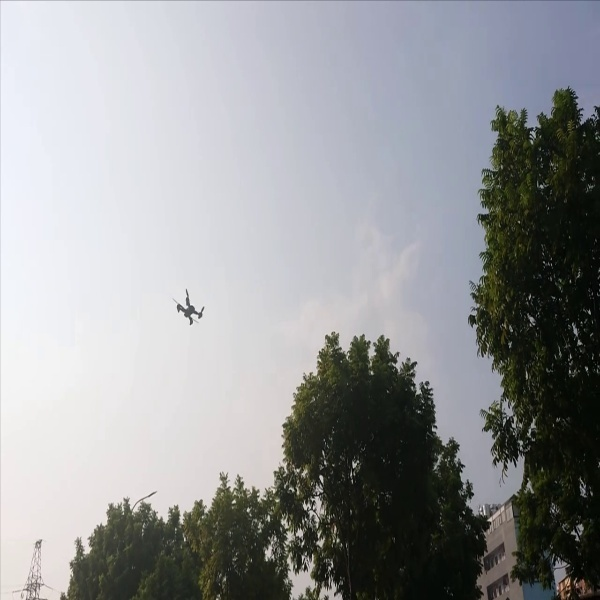drone: (168, 285, 207, 334)
